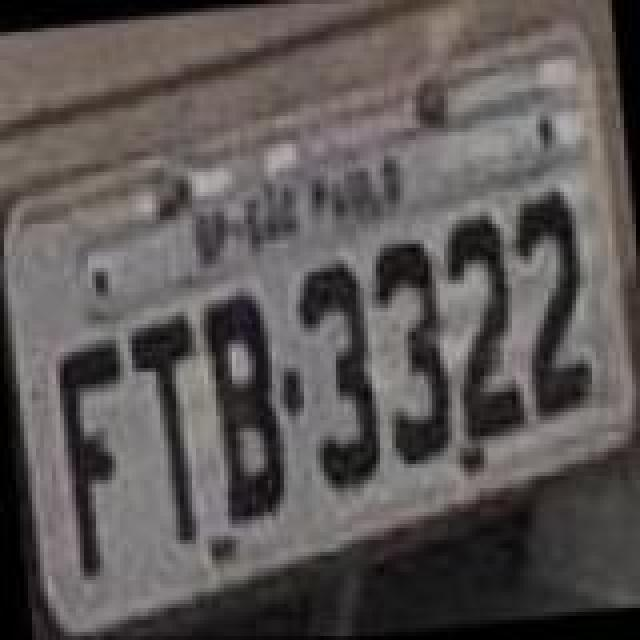2: (434, 208, 526, 448), (506, 190, 598, 426)
3: (290, 260, 386, 496), (368, 236, 460, 472)
B: (196, 286, 292, 530)
F: (48, 336, 144, 584)
T: (126, 306, 218, 550)
